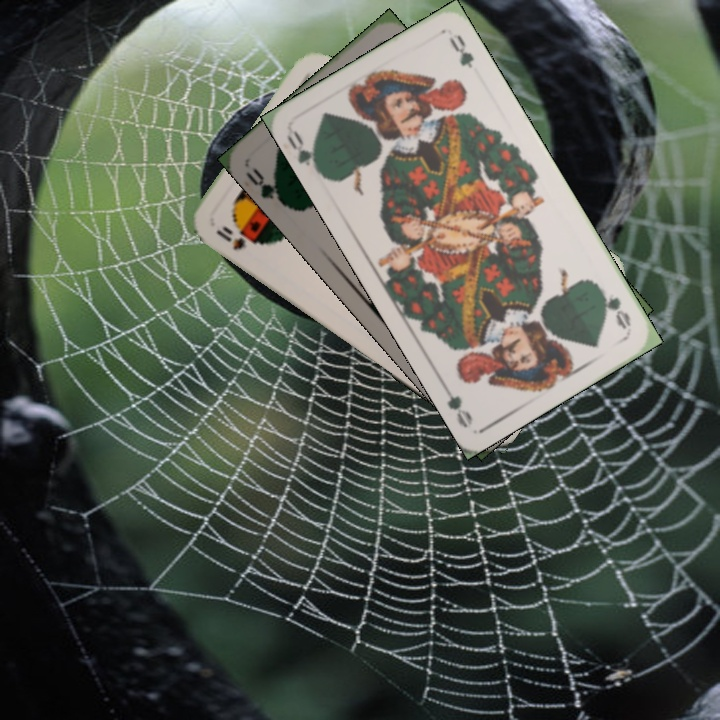GO: (241, 164, 290, 210), (282, 126, 325, 178), (593, 282, 634, 332)
SO: (212, 222, 259, 253)
